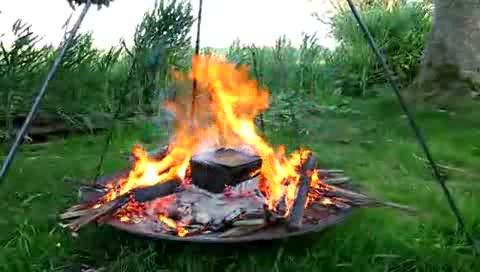fire: (138, 60, 300, 217)
